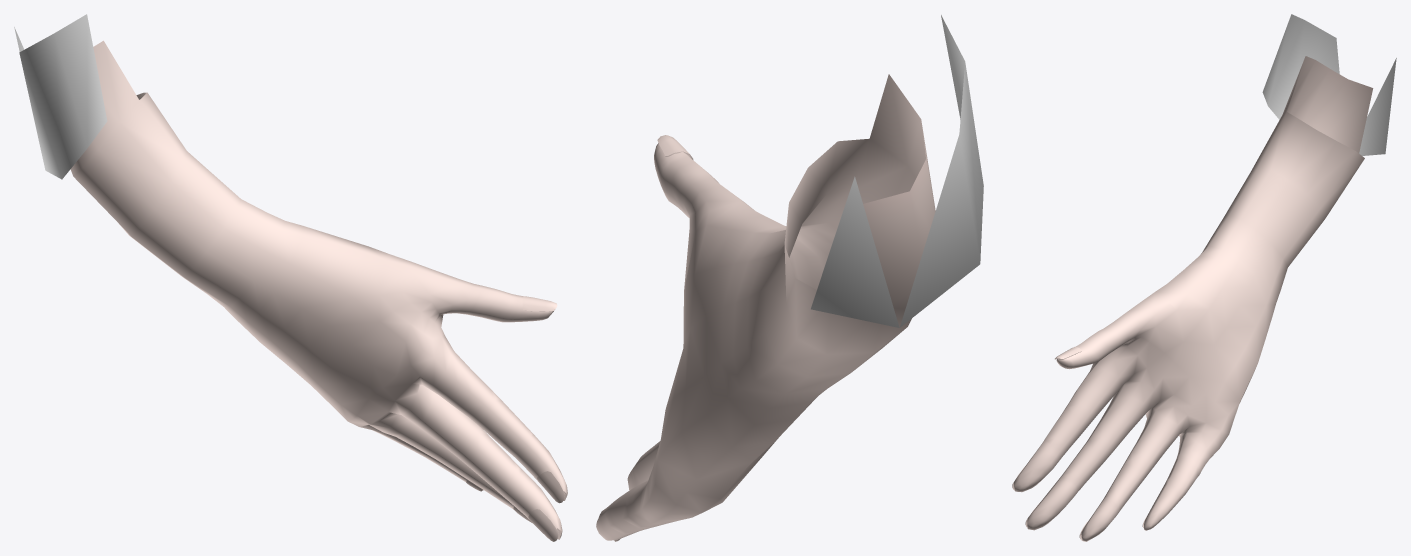
The model's file is IkuyoPick.obj.
The picture shows the model from 3 angles, left to right: view 1: azimuth 30°, elevation 25°; view 2: azimuth 150°, elevation 25°; view 3: azimuth 270°, elevation 25°; orthographic projection. The views are drawn at different scales.
Size of the model in its own units: 0.2645 by 0.3402 by 0.2952.
2 materials, 2 textured.
